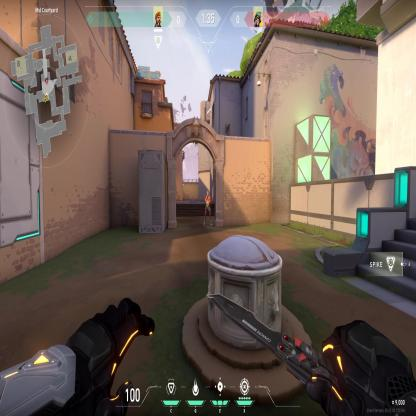enemy: (203, 190, 212, 226)
